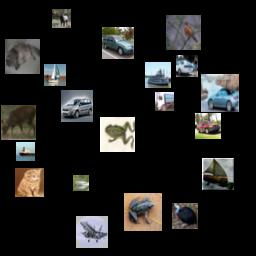airplane: (76, 216, 108, 248)
automobile: (201, 74, 239, 112), (61, 90, 93, 122), (102, 27, 134, 59), (195, 113, 221, 139), (176, 55, 198, 77)
bird: (166, 15, 201, 50), (172, 203, 198, 229)
cat: (5, 39, 40, 74), (15, 168, 44, 197)
deer: (1, 105, 36, 140), (52, 9, 71, 28)
frog: (124, 193, 162, 231), (100, 117, 135, 152)
ship: (202, 158, 234, 190), (145, 62, 171, 88), (44, 64, 66, 86), (16, 142, 35, 161), (73, 175, 89, 191)
truck: (155, 92, 174, 111)
